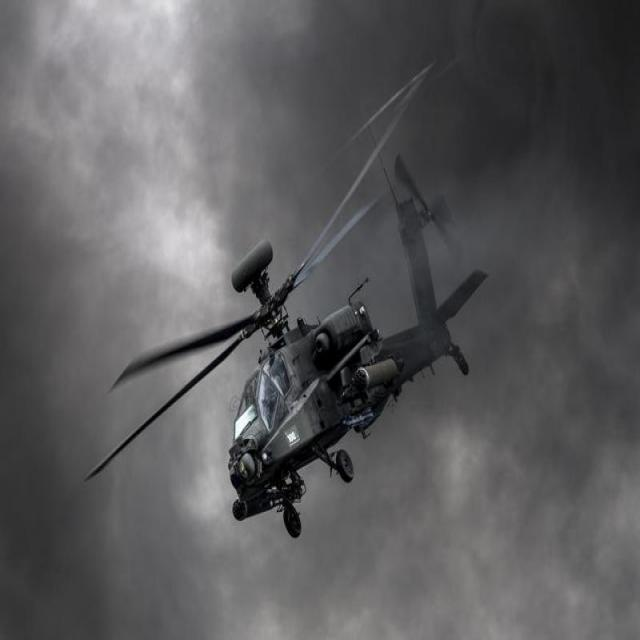MIL_HELO: (69, 66, 508, 571)
